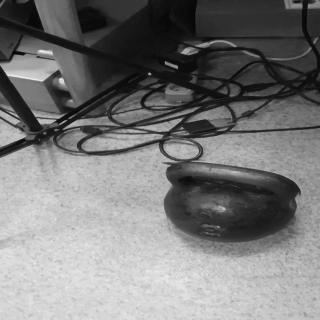kettlebell: (163, 158, 305, 246)
